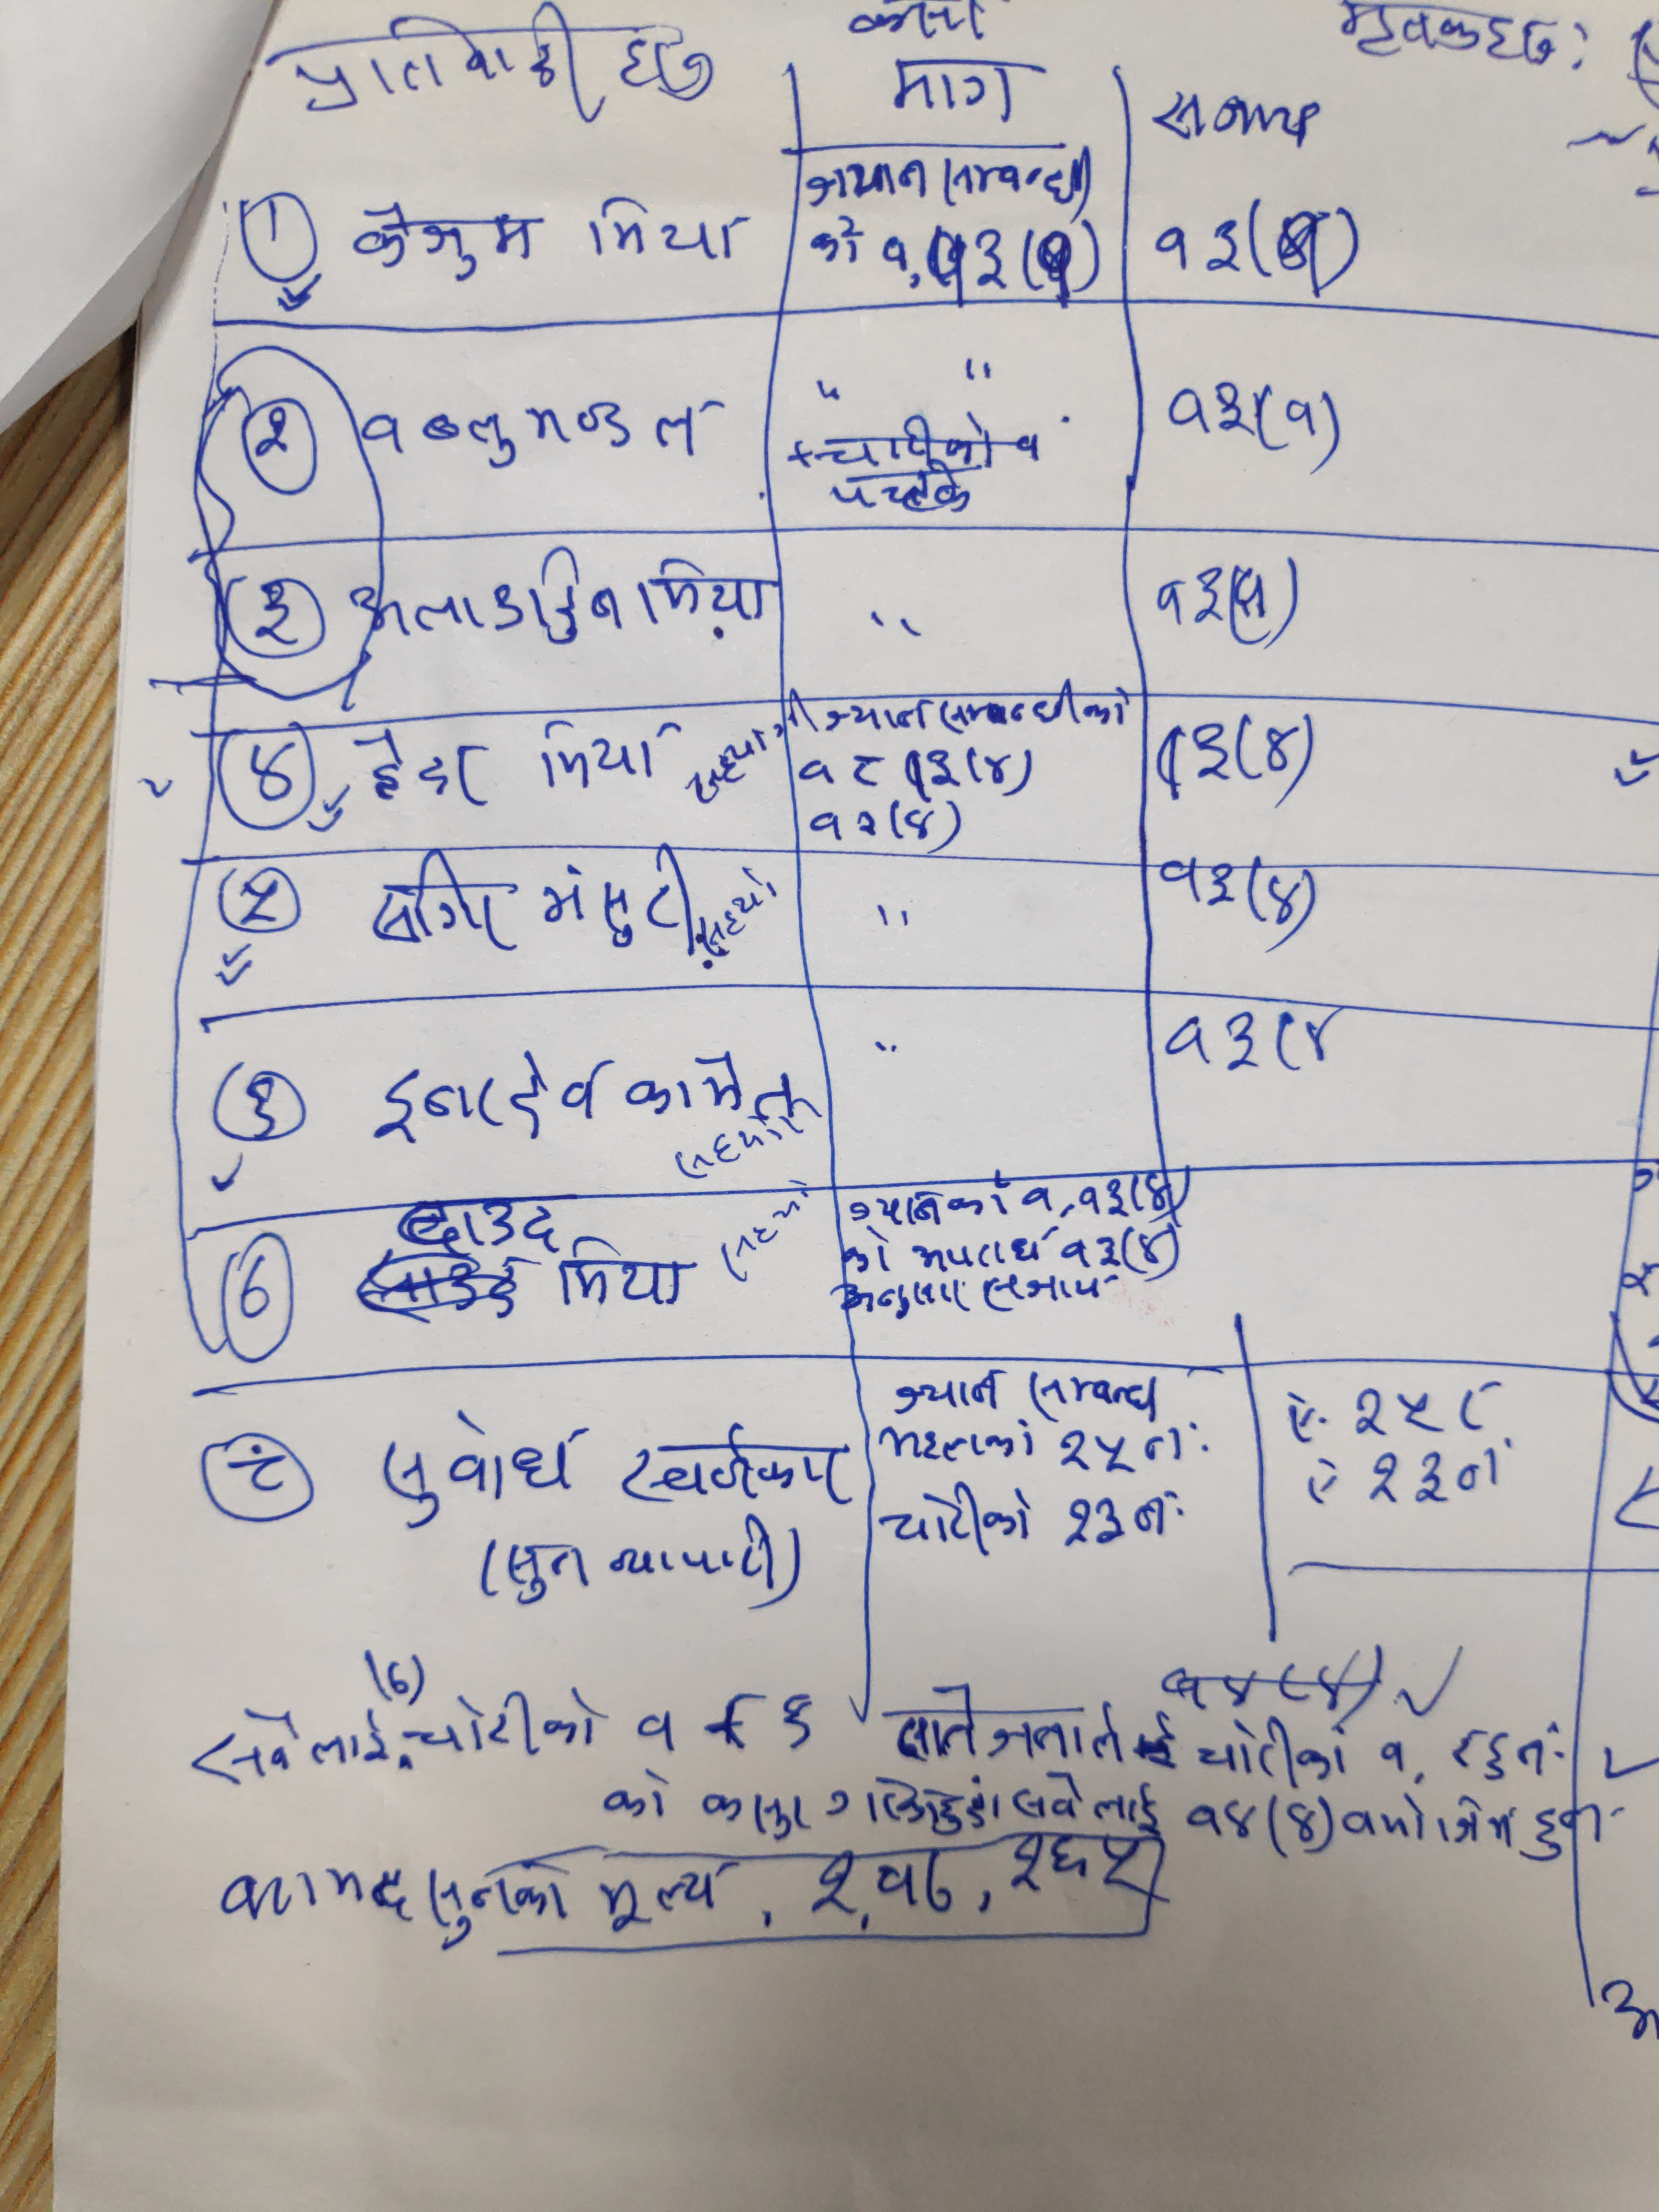text: (284, 7, 596, 134), (345, 550, 770, 641), (361, 397, 721, 470), (373, 1406, 586, 1526), (368, 1050, 603, 1143), (884, 1679, 1127, 1768), (620, 1426, 857, 1507), (538, 848, 699, 958), (1331, 0, 1565, 71), (347, 199, 542, 284), (361, 852, 511, 954), (410, 1684, 606, 1757), (188, 1712, 389, 1782), (350, 723, 502, 812), (1338, 1787, 1521, 1860), (425, 1860, 579, 1947), (211, 1867, 422, 1928), (584, 193, 748, 270), (622, 1054, 805, 1122), (551, 1226, 697, 1310), (1349, 1369, 1514, 1442), (528, 712, 671, 794), (884, 54, 1030, 127), (596, 1853, 735, 1928), (1166, 998, 1265, 1089), (612, 26, 716, 105), (1152, 711, 1237, 798), (1164, 380, 1256, 455), (1359, 1449, 1480, 1507), (1152, 559, 1225, 643), (1152, 214, 1241, 280), (1161, 848, 1239, 920), (235, 742, 307, 810), (246, 402, 303, 477), (251, 583, 307, 658), (237, 1071, 295, 1141), (228, 873, 295, 930), (232, 1449, 301, 1500), (1249, 719, 1305, 780), (1295, 1010, 1338, 1078), (1260, 871, 1307, 930), (1279, 401, 1328, 442)
